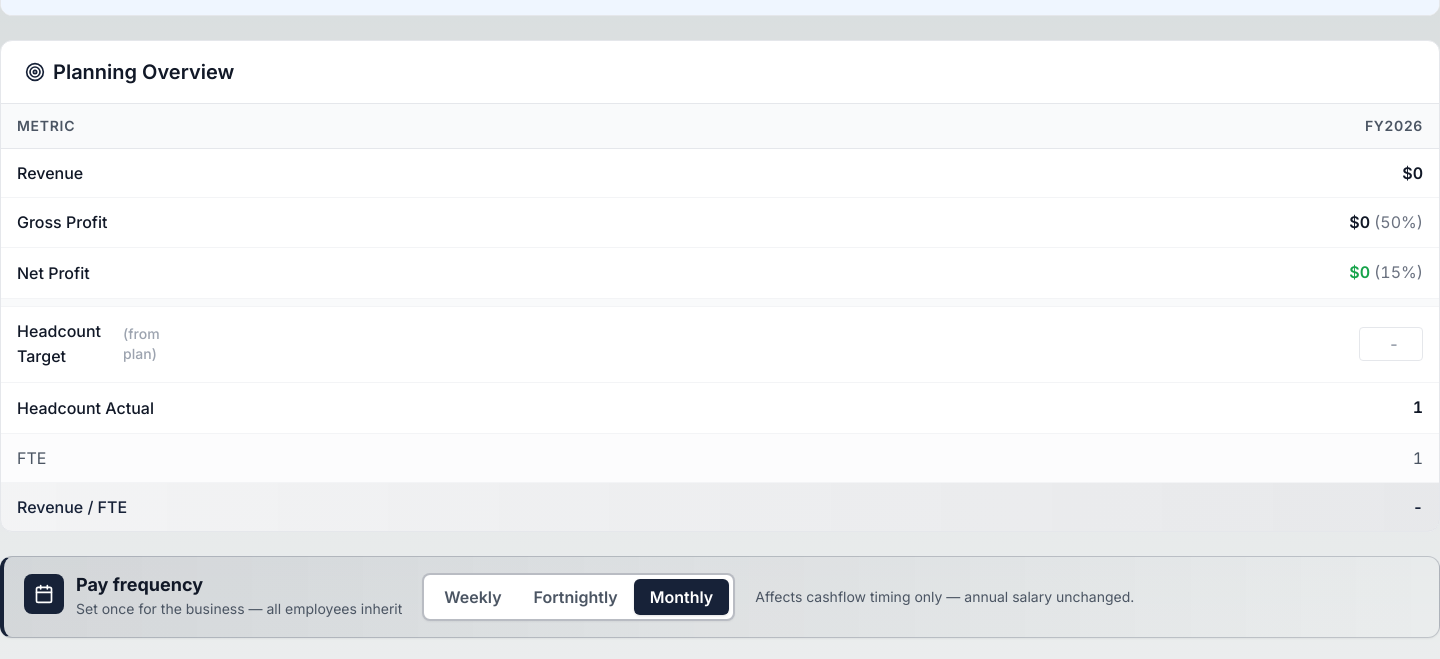
Test: UX-S4-03 — Step 4 pay frequency selector › Test 8: setting business default does NOT mutate per-row payFrequency (display-only inheritance)
Set business default to 'weekly' — Alice's own payFrequency must remain undefined.
Click the radio button with aria-label "pay frequency: weekly". click: (473, 597)
box: [428,579,518,615]
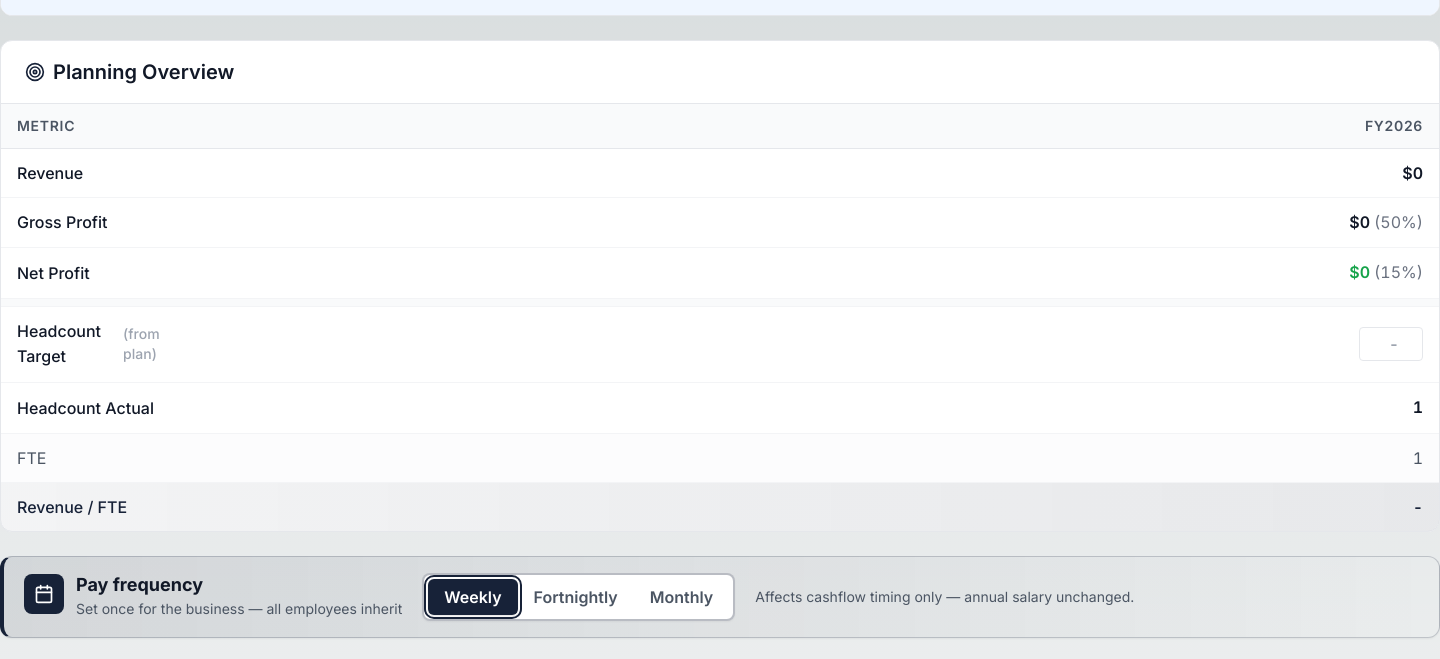
Switch business default to 'fortnightly' — Alice still undefined, display tracks default.
Click the radio button with aria-label "pay frequency: fortnightly". click: (576, 597)
box: [518,579,634,615]
(page scrolled)
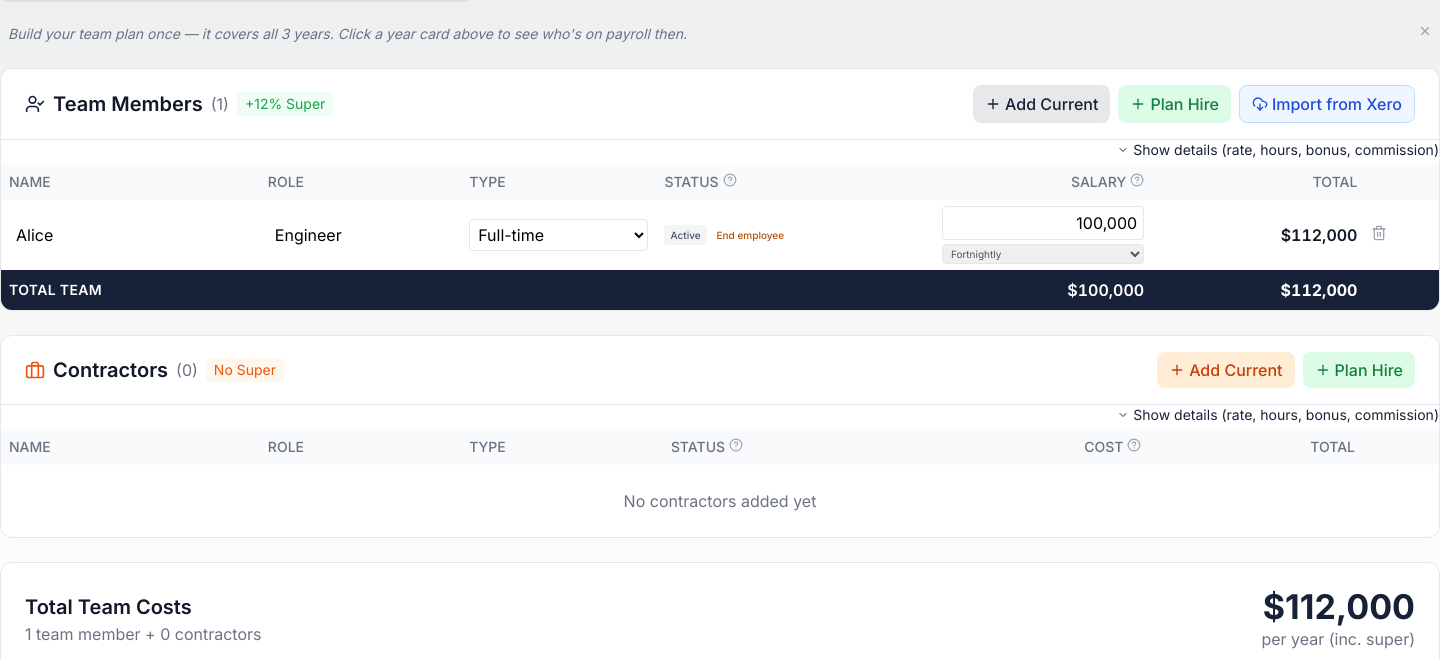
Now the dropdown named "pay frequency for alice" shows "Fortnightly", box [942,244,1144,264]
